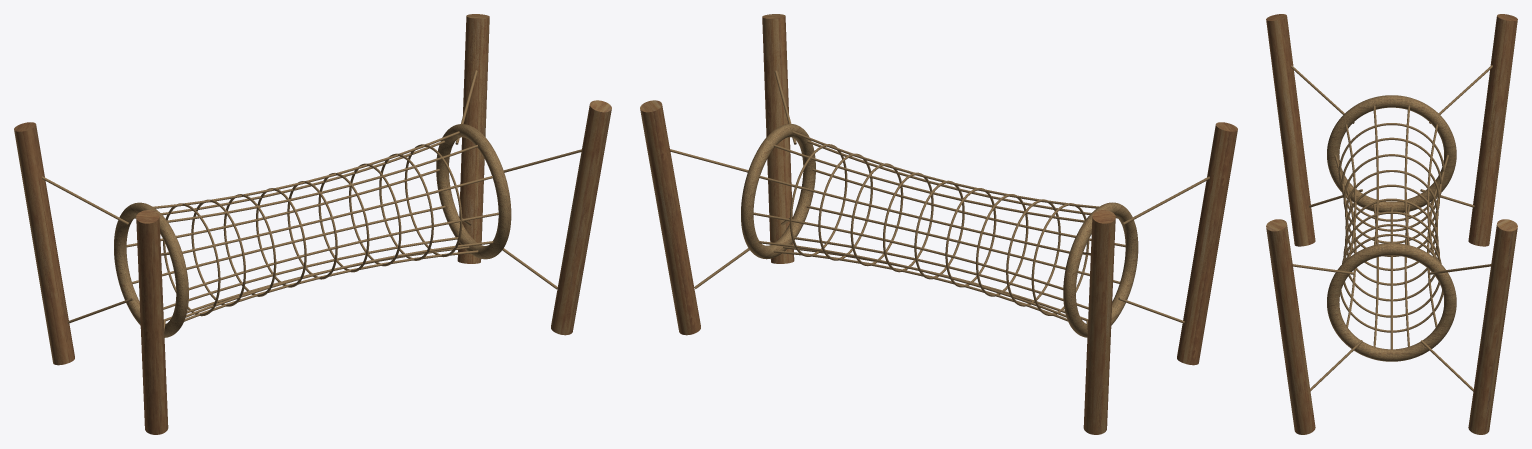
File: game.glb
3 views of the same model, side by side, from view 1: azimuth 30°, elevation 25°; view 2: azimuth 150°, elevation 25°; view 3: azimuth 270°, elevation 25° (orthographic). The views are drawn at different scales.
Visible parts, largest first — view 1: Mesh009, sw002, sw001, sw003, sw000, Mesh003, Mesh002, sw004, Mesh011, Mesh008, Mesh012, Mesh013 (+5 smaller); view 2: Mesh009, sw003, sw000, sw002, sw001, Mesh003, Mesh002, sw004, Mesh011, Mesh012, Mesh008, Mesh013 (+5 smaller); view 3: sw002, sw003, sw000, sw001, Mesh003, Mesh002, Mesh009, sw004, Mesh010, Mesh012, Mesh011, Mesh008 (+5 smaller).
Part boxes in pixels (bbox=[...]): Mesh009: bbox=[126, 131, 498, 321]; sw002: bbox=[14, 122, 74, 365]; sw001: bbox=[551, 100, 611, 335]; sw003: bbox=[136, 210, 168, 434]; sw000: bbox=[457, 14, 489, 263]; Mesh003: bbox=[436, 124, 511, 259]; Mesh002: bbox=[114, 202, 188, 337]; sw004: bbox=[42, 70, 581, 331]; Mesh011: bbox=[404, 144, 462, 257]; Mesh008: bbox=[191, 199, 245, 306]; Mesh012: bbox=[379, 153, 433, 260]; Mesh013: bbox=[349, 163, 401, 266]; Mesh009: bbox=[753, 131, 1125, 321]; sw003: bbox=[1177, 122, 1237, 365]; sw000: bbox=[640, 100, 700, 335]; sw002: bbox=[1083, 210, 1115, 434]; sw001: bbox=[762, 14, 794, 263]; Mesh003: bbox=[741, 124, 815, 259]; Mesh002: bbox=[1063, 202, 1138, 337]; sw004: bbox=[670, 70, 1209, 329]; Mesh011: bbox=[789, 144, 847, 256]; Mesh012: bbox=[818, 153, 872, 260]; Mesh008: bbox=[1006, 199, 1060, 306]; Mesh013: bbox=[850, 163, 903, 266]; sw002: bbox=[1468, 14, 1517, 246]; sw003: bbox=[1266, 14, 1315, 246]; sw000: bbox=[1468, 219, 1517, 434]; sw001: bbox=[1266, 219, 1315, 434]; Mesh003: bbox=[1327, 243, 1456, 361]; Mesh002: bbox=[1327, 95, 1456, 213]; Mesh009: bbox=[1334, 105, 1448, 349]; sw004: bbox=[1291, 65, 1492, 391]; Mesh010: bbox=[1338, 123, 1444, 221]; Mesh012: bbox=[1342, 224, 1441, 317]; Mesh011: bbox=[1340, 233, 1443, 332]; Mesh008: bbox=[1341, 137, 1442, 231].
Bounding box in the file's own units: 4.25 × 2 × 2.09.
Materials: 2 (2 with a texture image).
